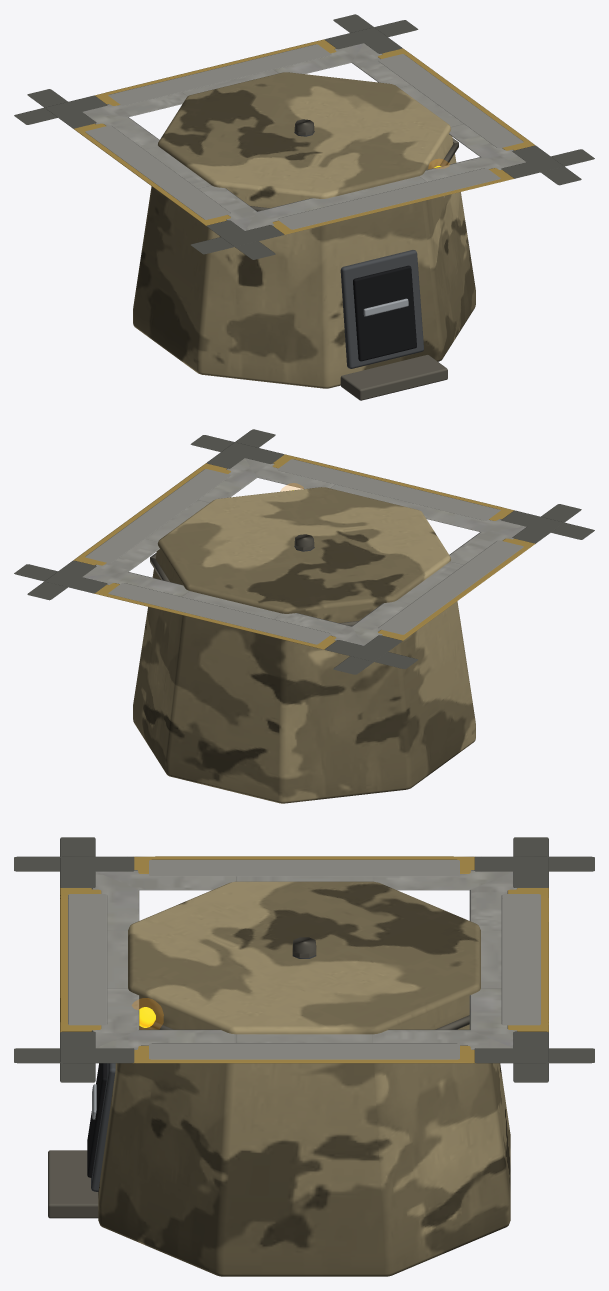
The model's file is GACTWR.glb.
The picture shows the model from 3 angles, top to bottom: view 1: azimuth 30°, elevation 25°; view 2: azimuth 150°, elevation 25°; view 3: azimuth 270°, elevation 25°; orthographic projection. The views are drawn at different scales.
Parts seen in each view (by area): view 1: Block, Trim, ArmZP, ArmZN, ArmXN, ArmXP, ArmZPBlock, ArmXNBlock, ArmXPBlock, ArmZNBlock; view 2: Block, ArmZN, ArmZP, ArmXN, ArmXP, ArmZNBlock, ArmXNBlock, ArmXPBlock, ArmZPBlock; view 3: Block, ArmXP, ArmXN, ArmZN, ArmZP, Trim, ArmXPBlock, ArmZNBlock, ArmZPBlock, ArmXNBlock, Lamp0Light.
Part boxes in pixels (box(x1,y1,x2,y2)): Block: box(133, 72, 475, 388); Trim: box(250, 138, 458, 400); ArmZP: box(191, 149, 594, 254); ArmZN: box(14, 20, 418, 124); ArmXN: box(27, 89, 275, 259); ArmXP: box(333, 14, 581, 185); ArmZPBlock: box(245, 157, 525, 230); ArmXNBlock: box(82, 112, 256, 230); ArmXPBlock: box(351, 43, 526, 162); ArmZNBlock: box(83, 43, 363, 117); Block: box(133, 487, 475, 803); ArmZN: box(14, 564, 417, 668); ArmZP: box(190, 435, 594, 539); ArmXN: box(333, 504, 581, 674); ArmXP: box(27, 429, 275, 600); ArmZNBlock: box(83, 572, 363, 645); ArmXNBlock: box(351, 527, 525, 645); ArmXPBlock: box(83, 458, 257, 576); ArmZPBlock: box(245, 458, 526, 531); Block: box(98, 881, 510, 1276); ArmXP: box(14, 1043, 594, 1063); ArmXN: box(14, 856, 594, 876); ArmZN: box(501, 837, 548, 1082); ArmZP: box(60, 837, 107, 1082); Trim: box(48, 1015, 469, 1218); ArmXPBlock: box(96, 1029, 512, 1049); ArmZNBlock: box(469, 872, 517, 1047); ArmZPBlock: box(91, 872, 139, 1047); ArmXNBlock: box(96, 870, 512, 890); Lamp0Light: box(132, 998, 163, 1029).
Bounding box in the file's own units: 1.2 × 0.567 × 1.2.
Materials: 21 (5 with a texture image).
